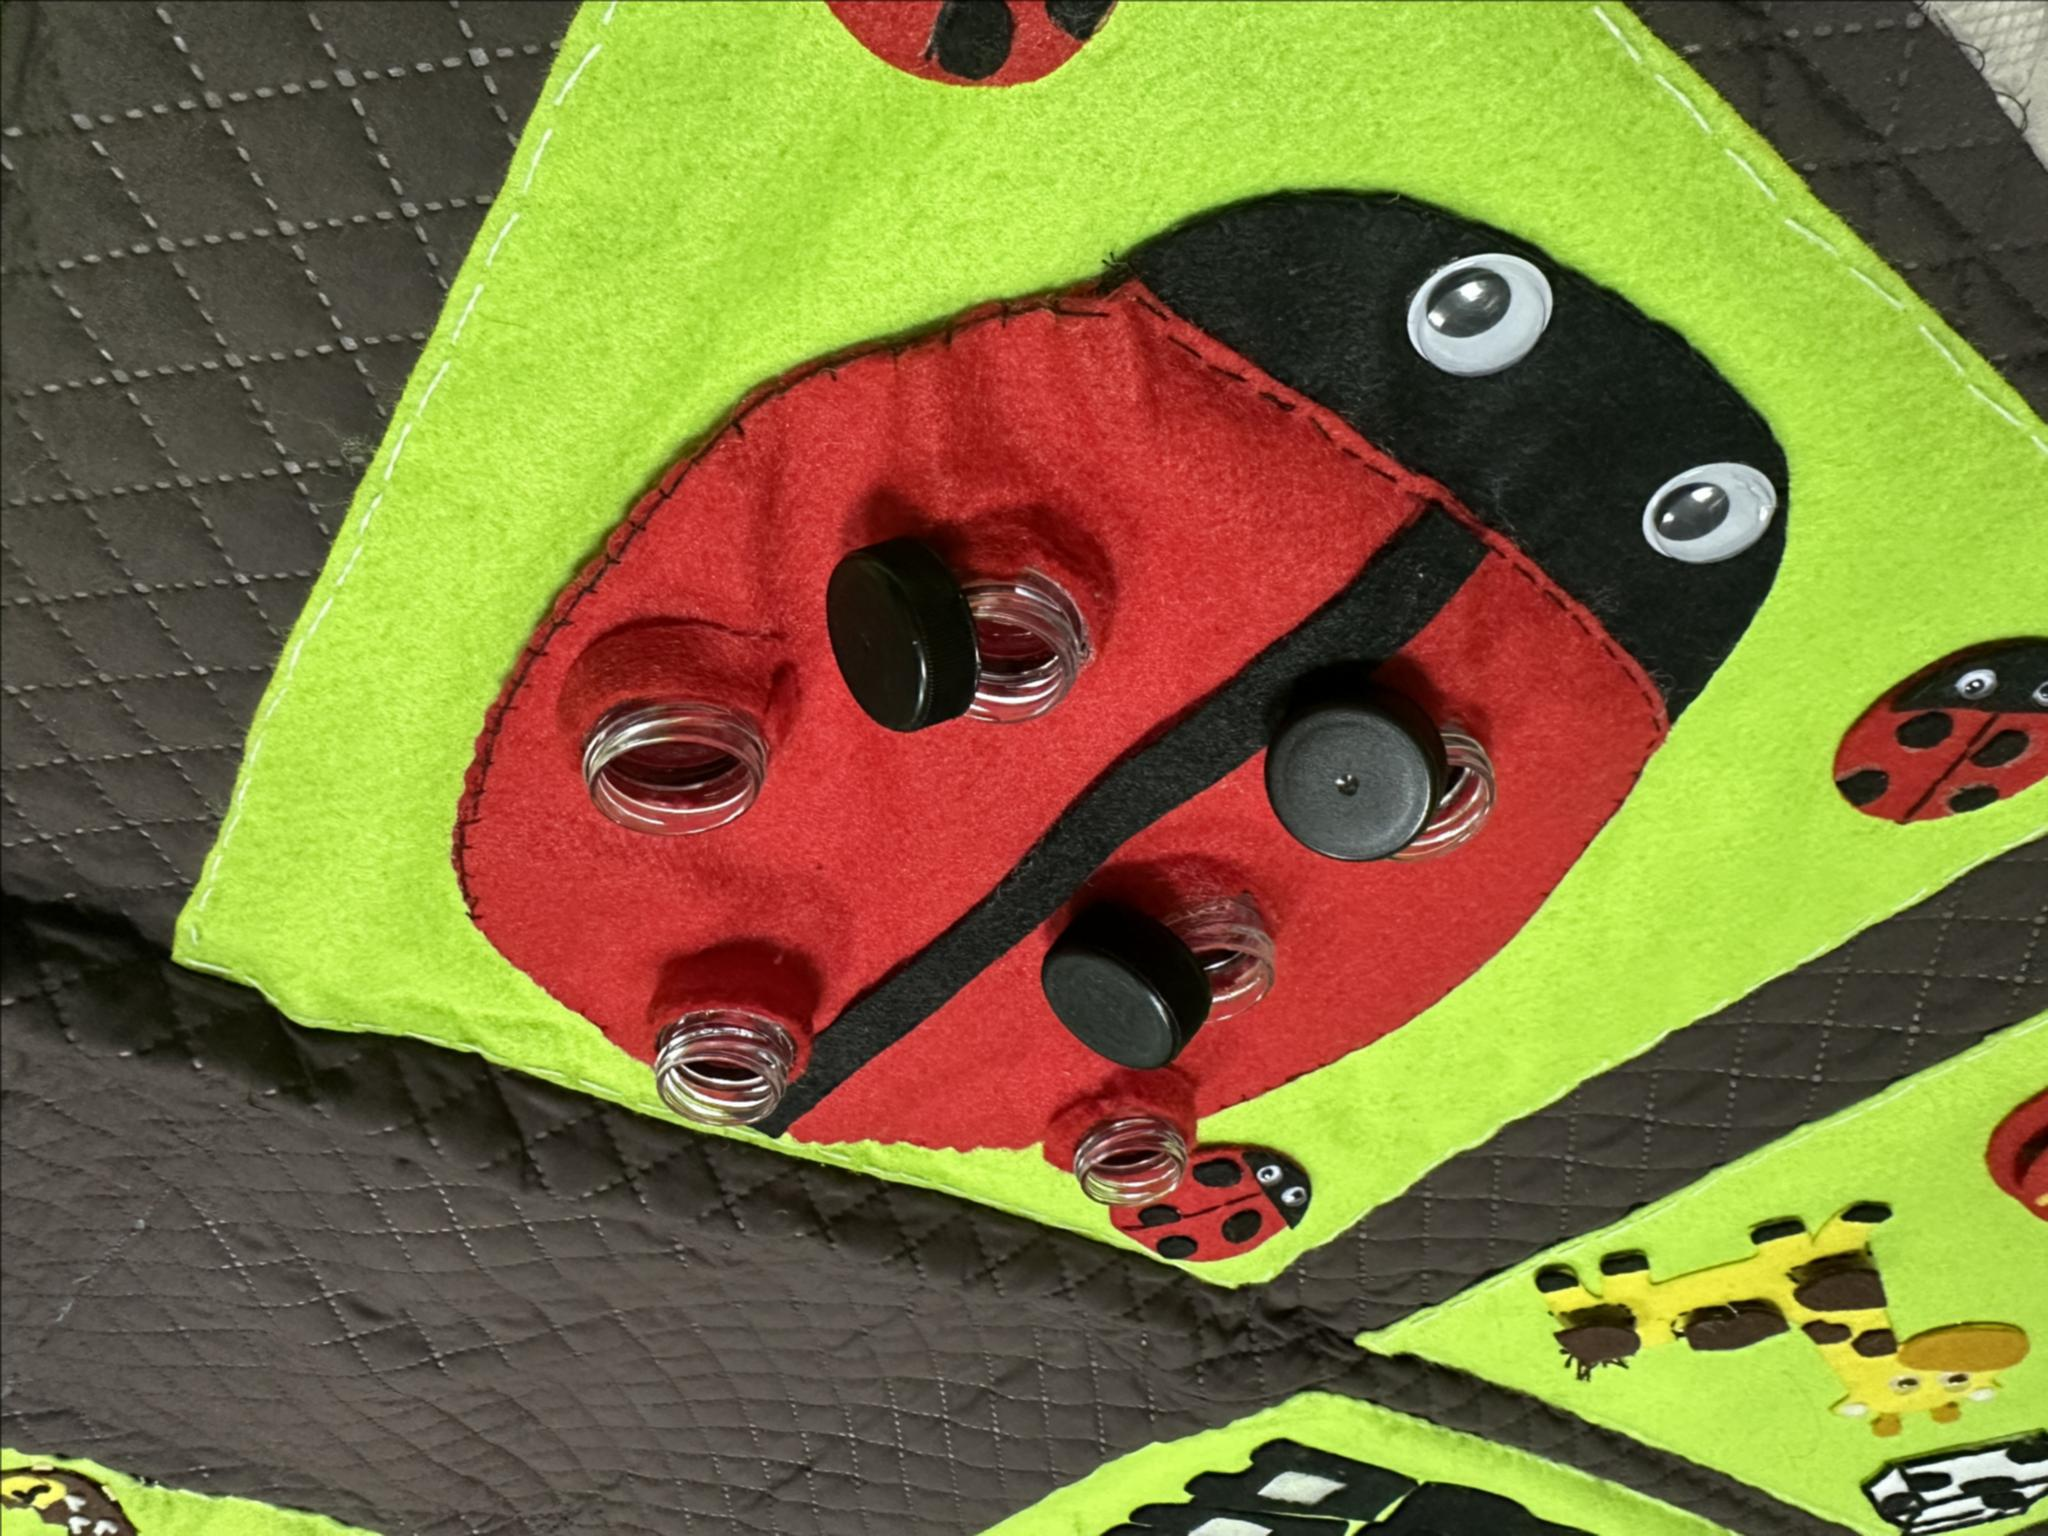cap_ng: (806, 490, 1116, 745), (1238, 660, 1530, 870), (1018, 863, 1300, 1073)
